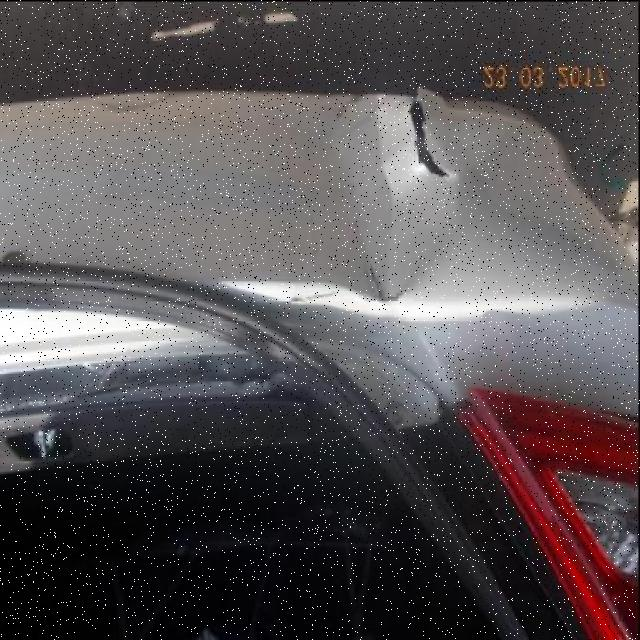damage: (271, 94, 416, 300), (408, 88, 457, 181), (263, 281, 348, 319), (363, 259, 414, 308)
